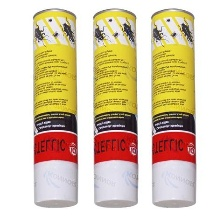aerosol_cans: (28, 7, 81, 211), (149, 7, 198, 209), (91, 5, 139, 209)
